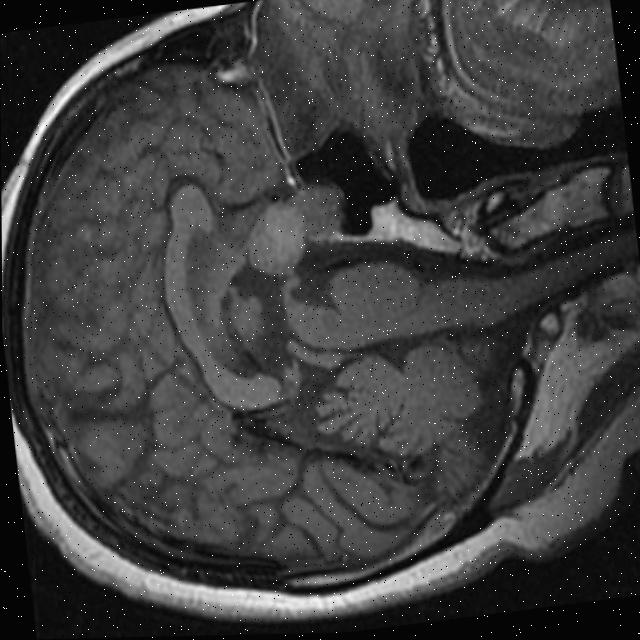Pituitary: (284, 179, 352, 245)
